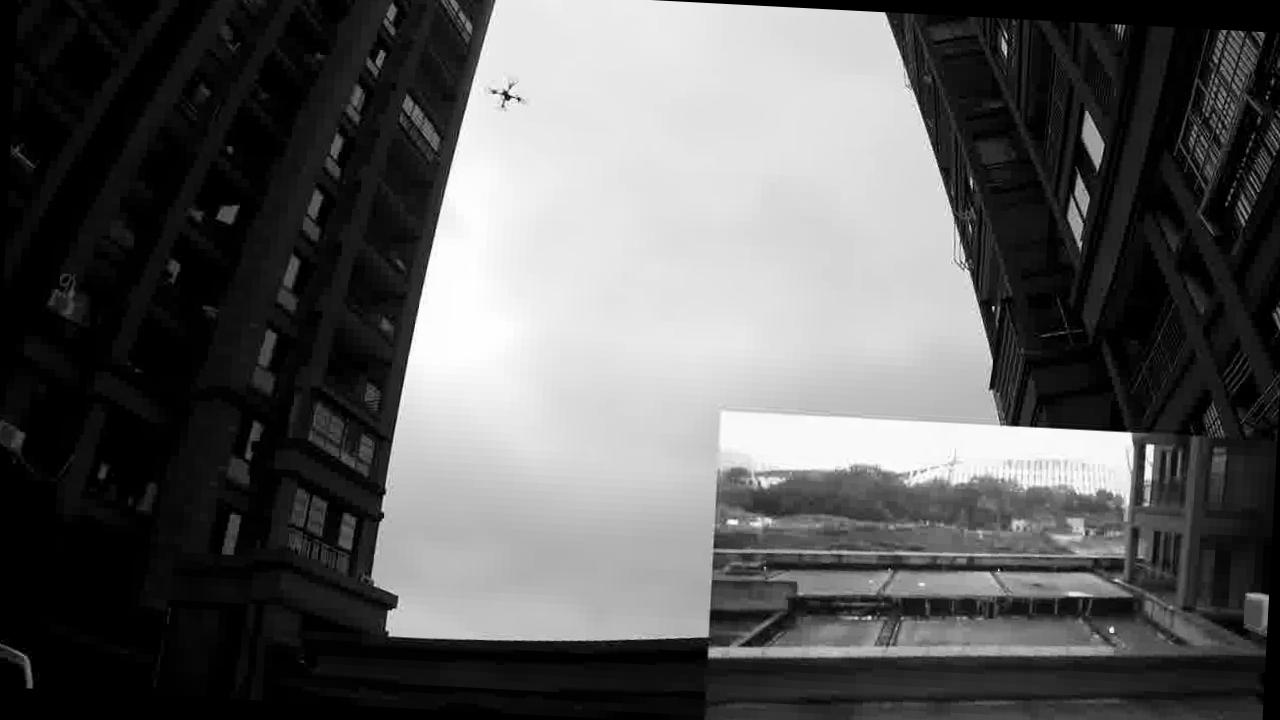drone: (478, 71, 529, 115)
